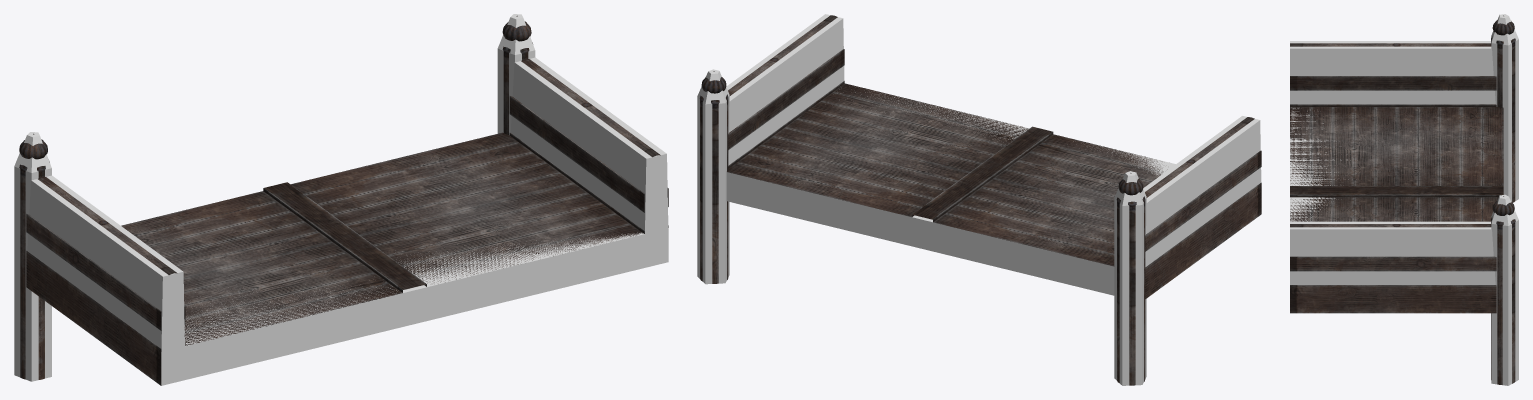
Rendered from JD_Bridge_A_4x2_01.fbx.
The picture shows the model from 3 angles, left to right: view 1: azimuth 30°, elevation 25°; view 2: azimuth 150°, elevation 25°; view 3: azimuth 270°, elevation 25°; orthographic projection. The views are drawn at different scales.
Parts seen in each view (by area): view 1: JD_Bridge_A_4x2_01, C_JD_Bridge_A_4x2_01; view 2: JD_Bridge_A_4x2_01, C_JD_Bridge_A_4x2_01; view 3: JD_Bridge_A_4x2_01, C_JD_Bridge_A_4x2_01.
Part boxes in pixels (left/top/right/bottom): JD_Bridge_A_4x2_01: left=19, top=15, right=668, bottom=385; C_JD_Bridge_A_4x2_01: left=14, top=14, right=668, bottom=385; JD_Bridge_A_4x2_01: left=700, top=15, right=1261, bottom=385; C_JD_Bridge_A_4x2_01: left=697, top=14, right=1261, bottom=385; JD_Bridge_A_4x2_01: left=1290, top=15, right=1515, bottom=384; C_JD_Bridge_A_4x2_01: left=1290, top=14, right=1518, bottom=385.
Size of the model in its own units: 8.54 by 3.8 by 4.29.
